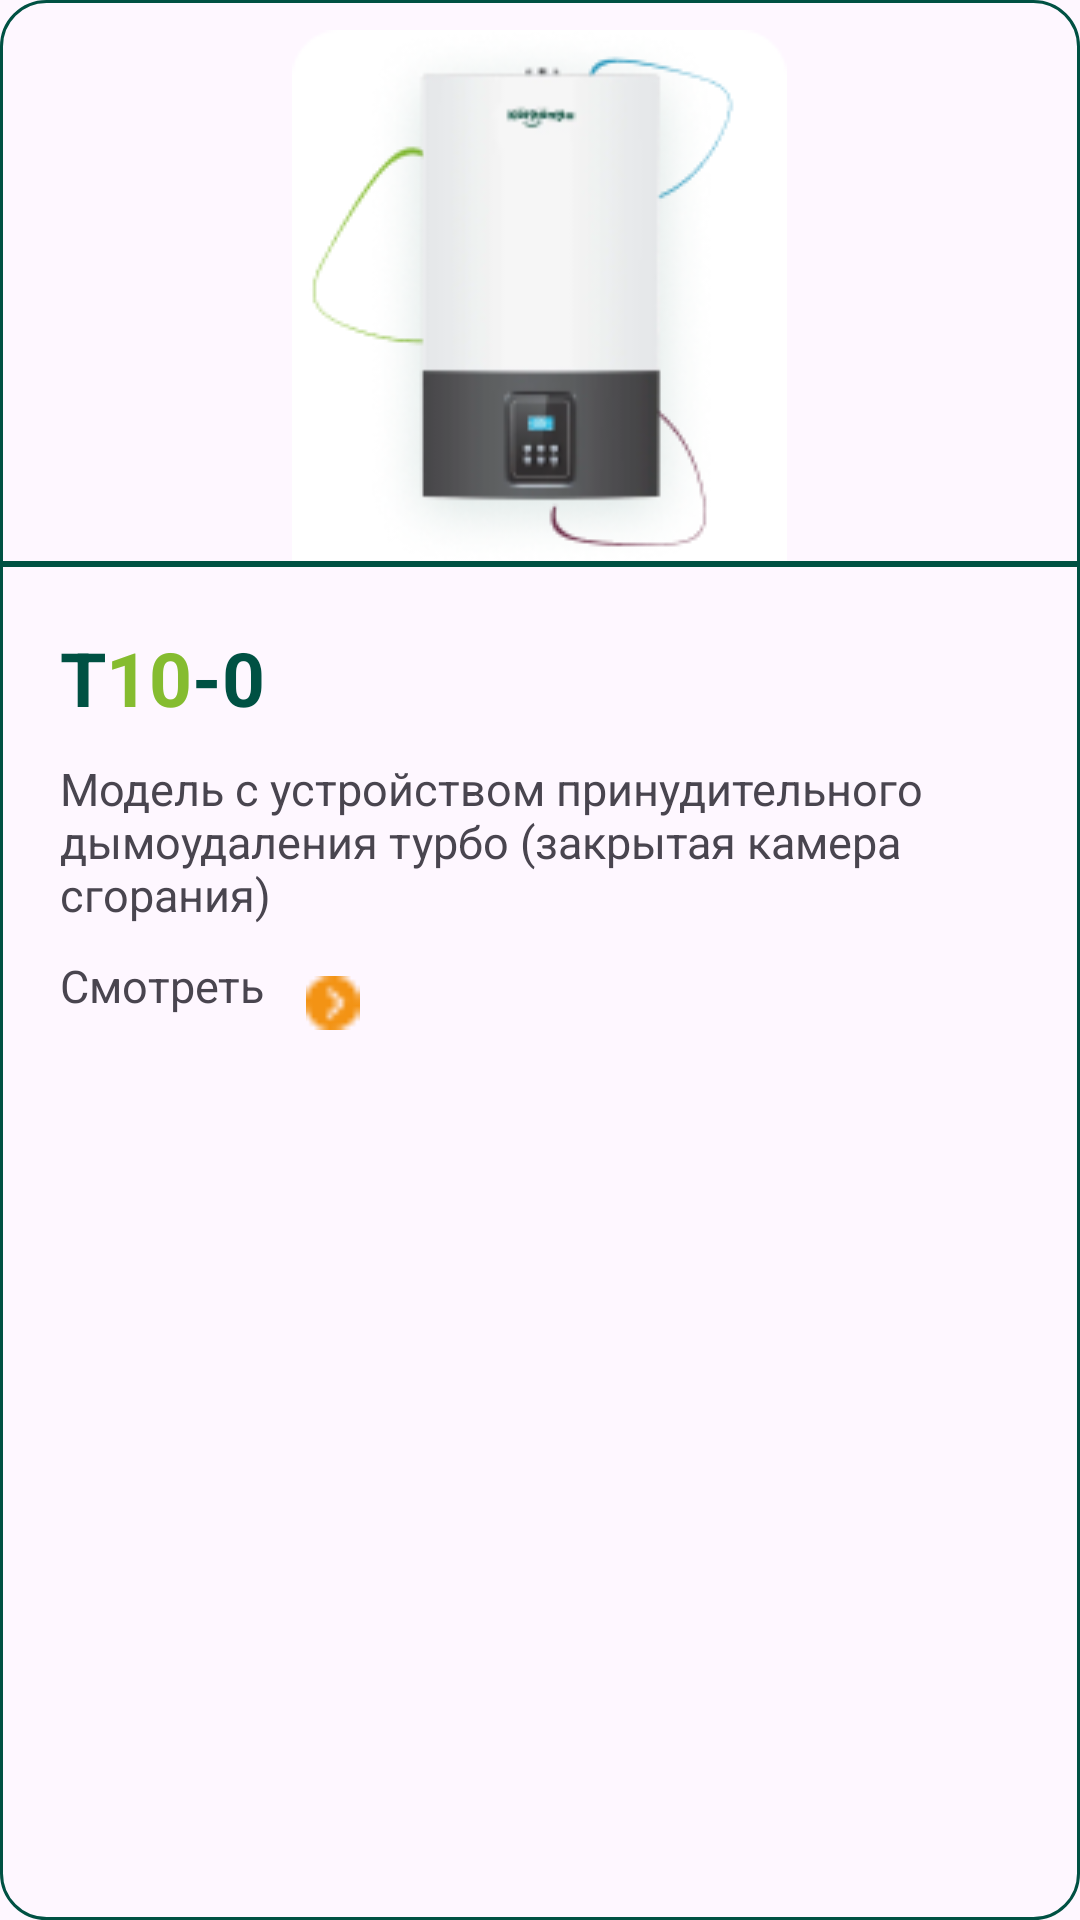

Screen size 1080 × 1920. Icon name, then its box in pixels as (x1, y1, x2, y2):
watch arrow: (306, 976, 360, 1030)
